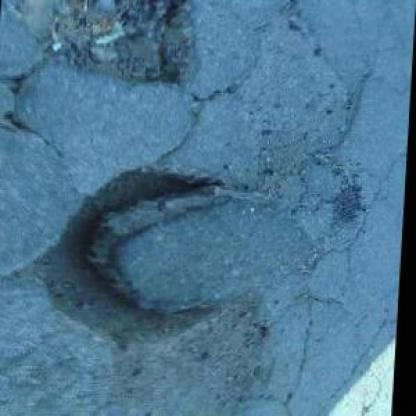pothole: (25, 165, 254, 351), (31, 2, 198, 90)
